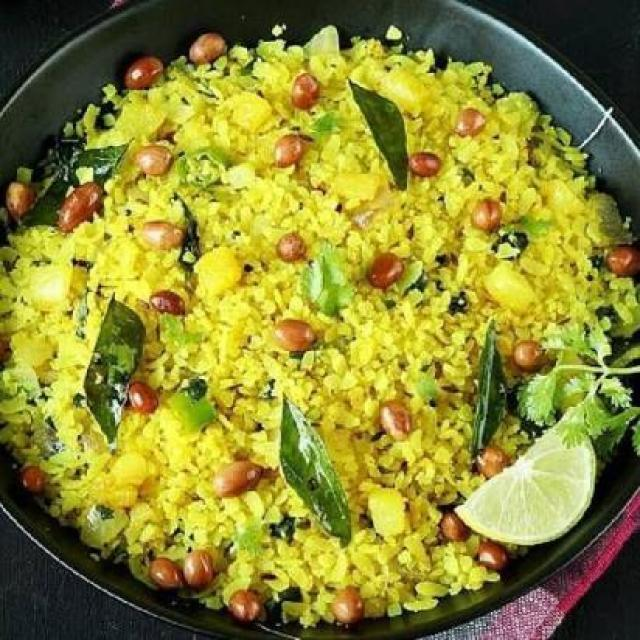poha: (32, 58, 624, 596)
